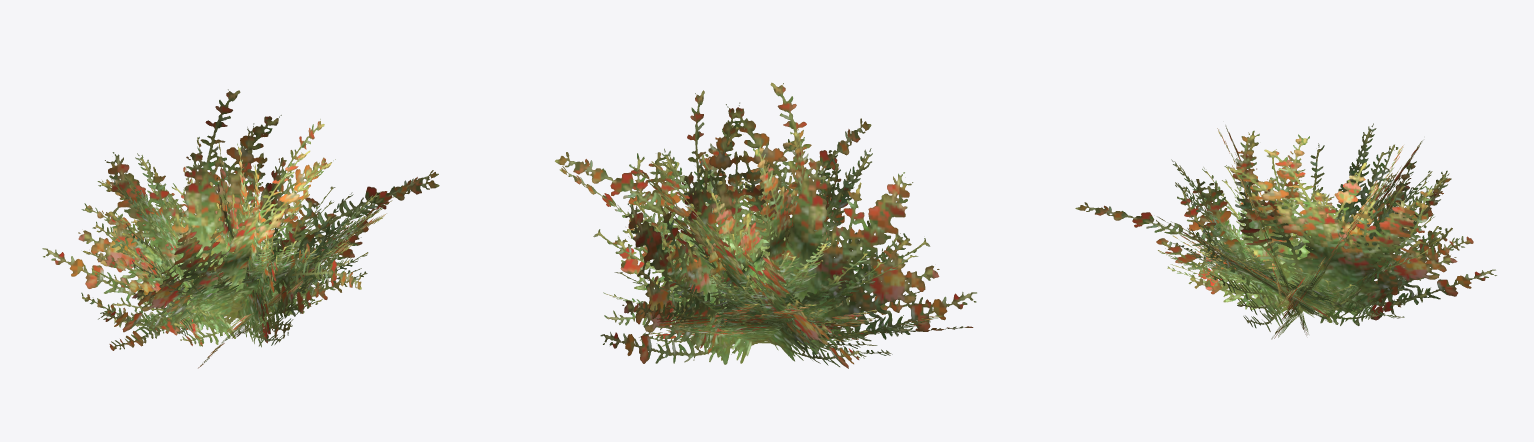
Rendered from shrb_arid_green_flowering_a1_l0.fbx.
3 views of the same model, side by side, from view 1: azimuth 30°, elevation 25°; view 2: azimuth 150°, elevation 25°; view 3: azimuth 270°, elevation 25° (orthographic). The views are drawn at different scales.
Parts seen in each view (by area): view 1: mesh_node; view 2: mesh_node; view 3: mesh_node.
Part boxes in pixels (x1=…): mesh_node: x1=42, y1=89, x2=439, y2=368; mesh_node: x1=555, y1=82, x2=976, y2=368; mesh_node: x1=1075, y1=123, x2=1496, y2=339.
Bounding box in the file's own units: 3.11 × 1.8 × 2.81.
